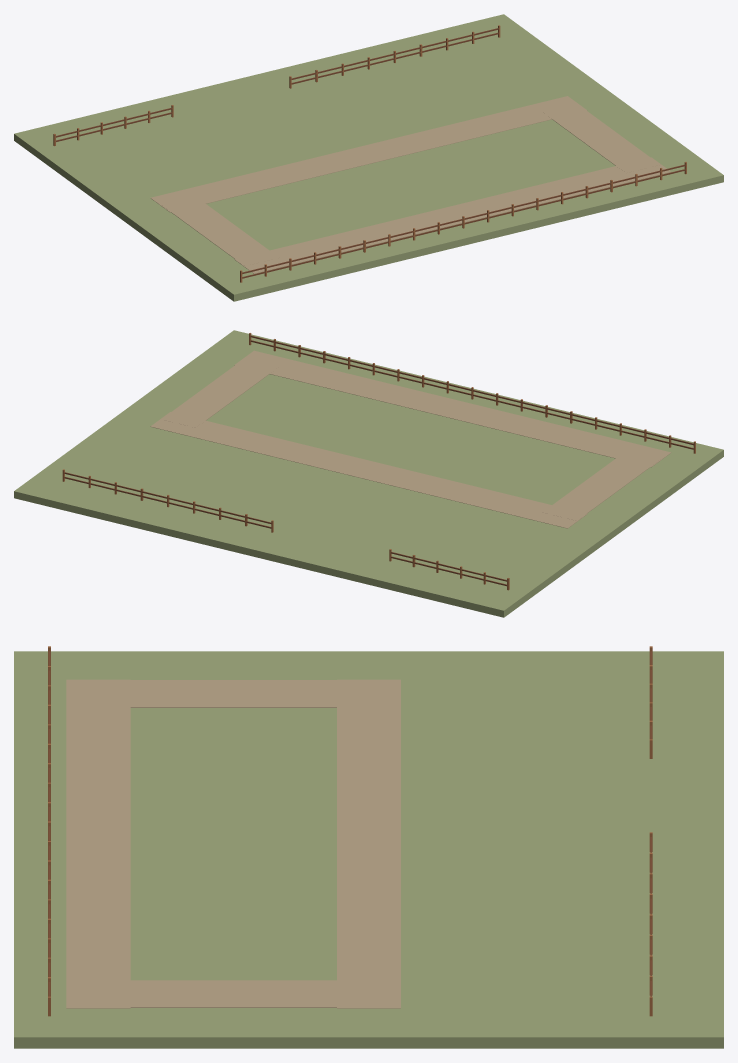
Rendered from farmyard.glb.
3 renders of one model, top to bottom at view 1: azimuth 30°, elevation 25°; view 2: azimuth 150°, elevation 25°; view 3: azimuth 270°, elevation 25°, orthographic. The views are drawn at different scales.
Parts seen in each view (by area): view 1: farmyard; view 2: farmyard; view 3: farmyard.
Part boxes in pixels (<box>): farmyard: <box>14,14,723,301</box>; farmyard: <box>14,330,723,617</box>; farmyard: <box>14,646,723,1048</box>.
Size of the model in its own units: 54 by 1.96 by 42.
